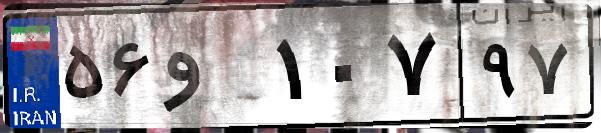0: (330, 28, 385, 110)
1: (270, 28, 330, 110)
5: (57, 26, 110, 100)
6: (110, 28, 158, 98)
7: (385, 28, 445, 110), (525, 38, 570, 115)
9: (475, 38, 525, 113)
و: (158, 20, 270, 120)
